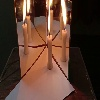fire: (48, 3, 51, 39)
